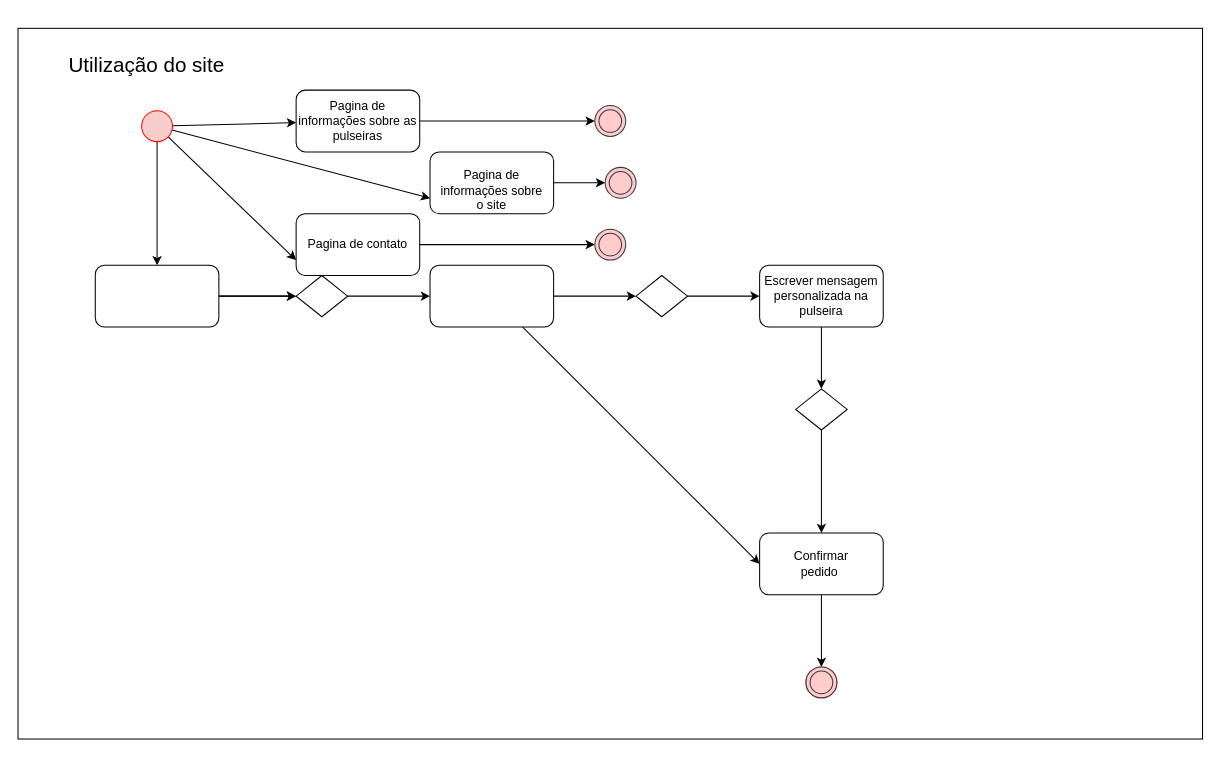
Some shapes in this 1221 by 757 pixel diagram are drawn without their labels. The shapes that lost their labels are listed below. From the top down, each one's centre as x and y in pixels, then its label:
point (156, 295): Escolher cor da pulseira
point (491, 295): Escolher material da pulseira
